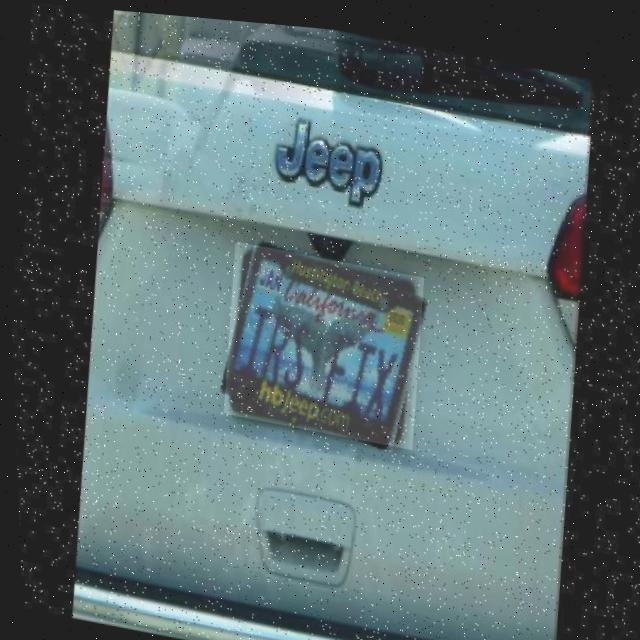LicensePlate: (215, 235, 427, 443)
